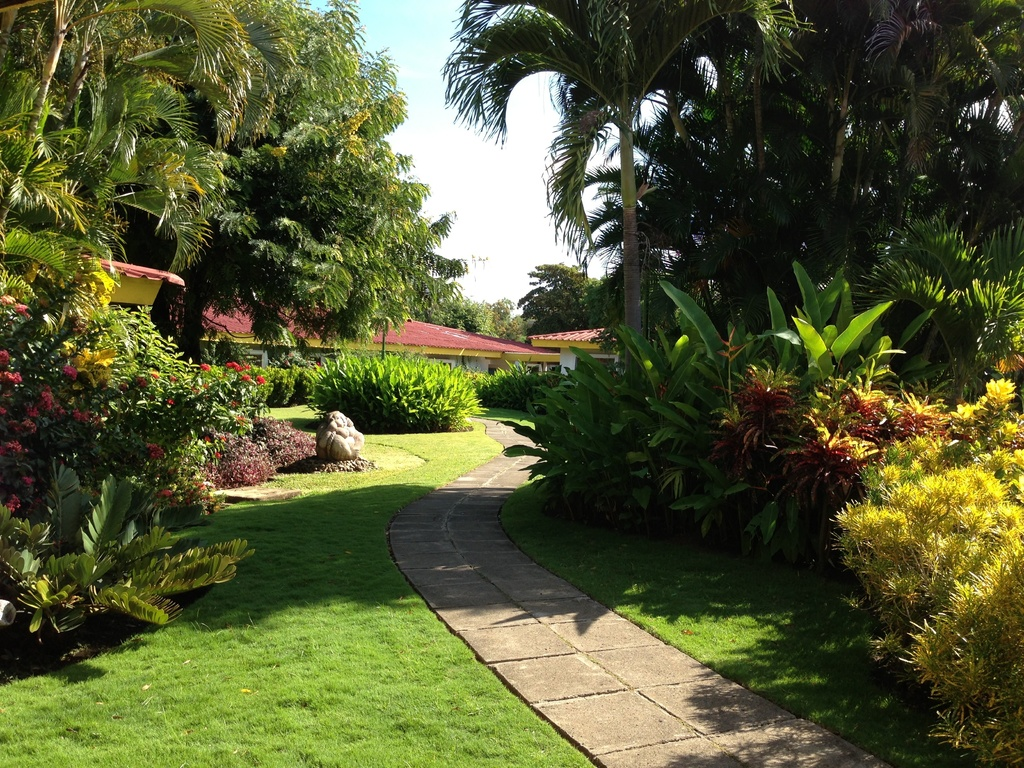Tree: (436, 0, 1024, 387), (0, 0, 485, 362)
